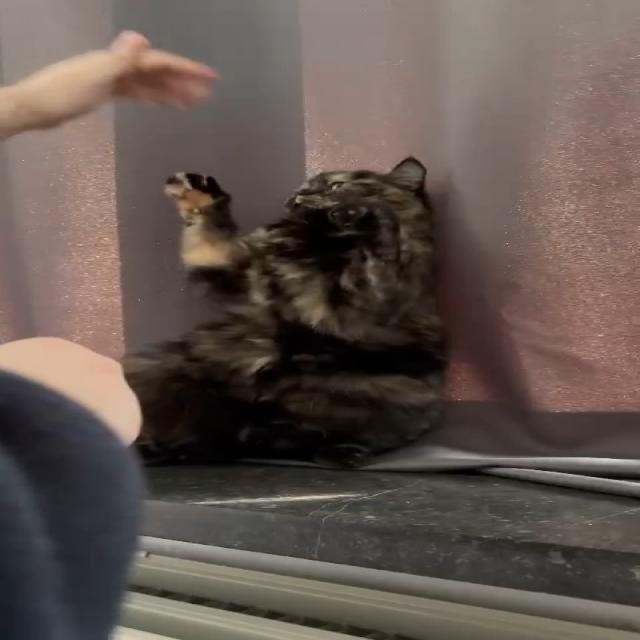authorized: (120, 156, 451, 470)
